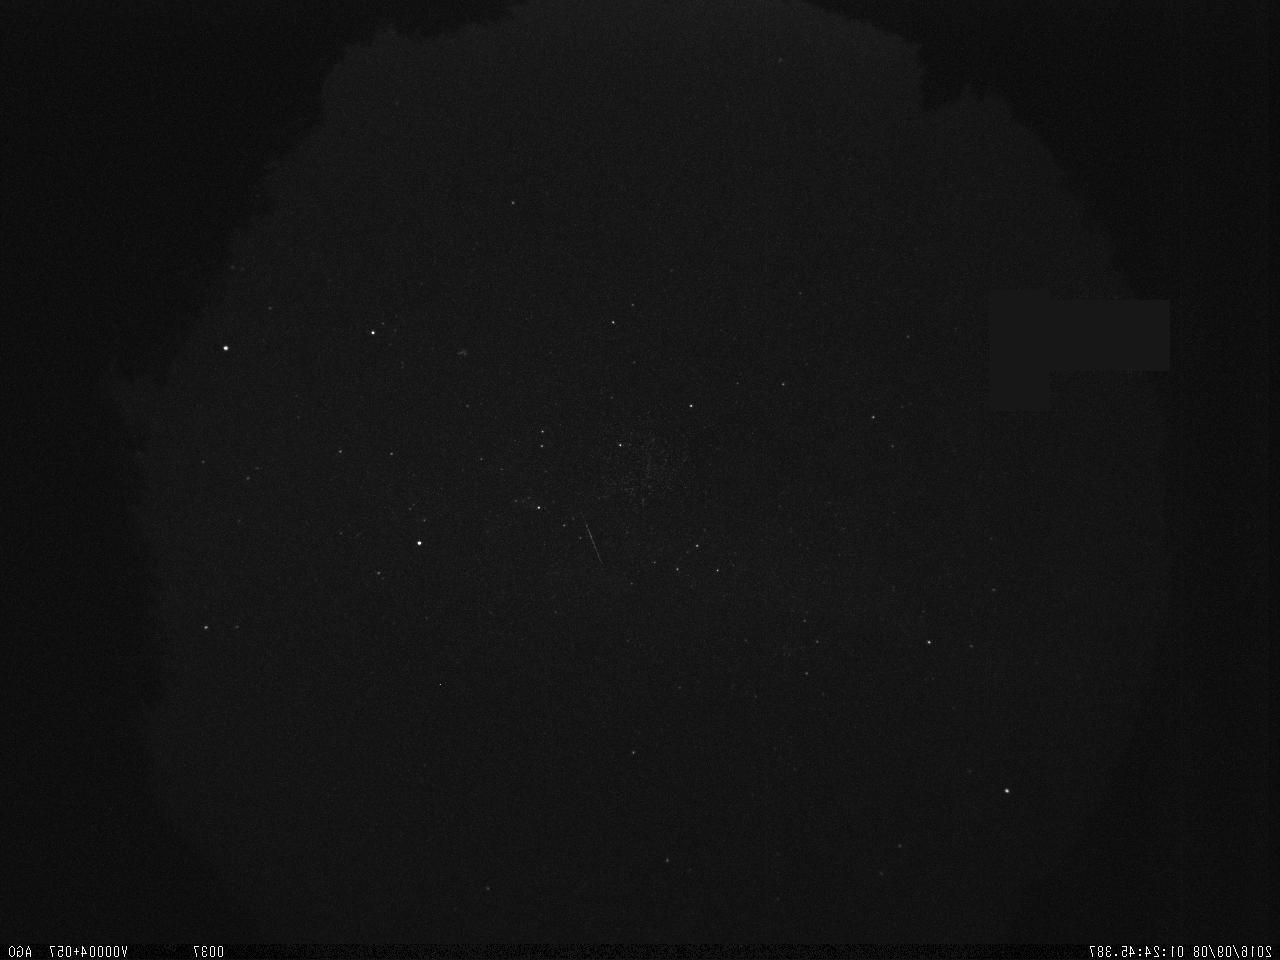meteor: (501, 472, 663, 607)
